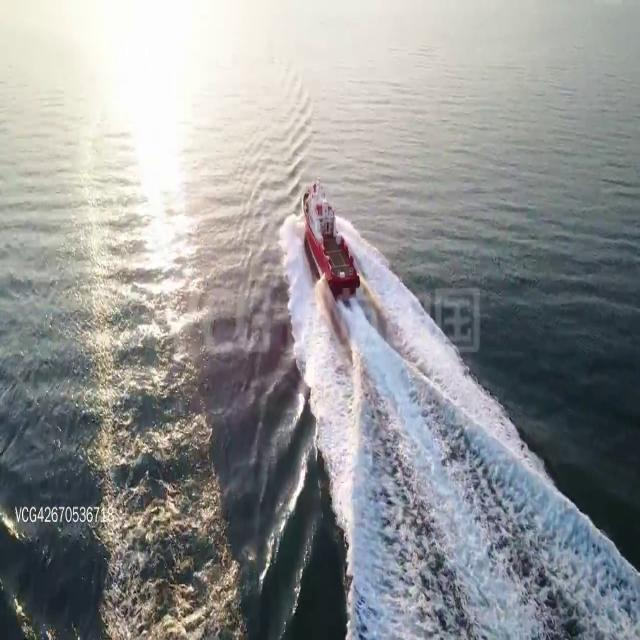houseboat: (299, 186, 358, 297)
